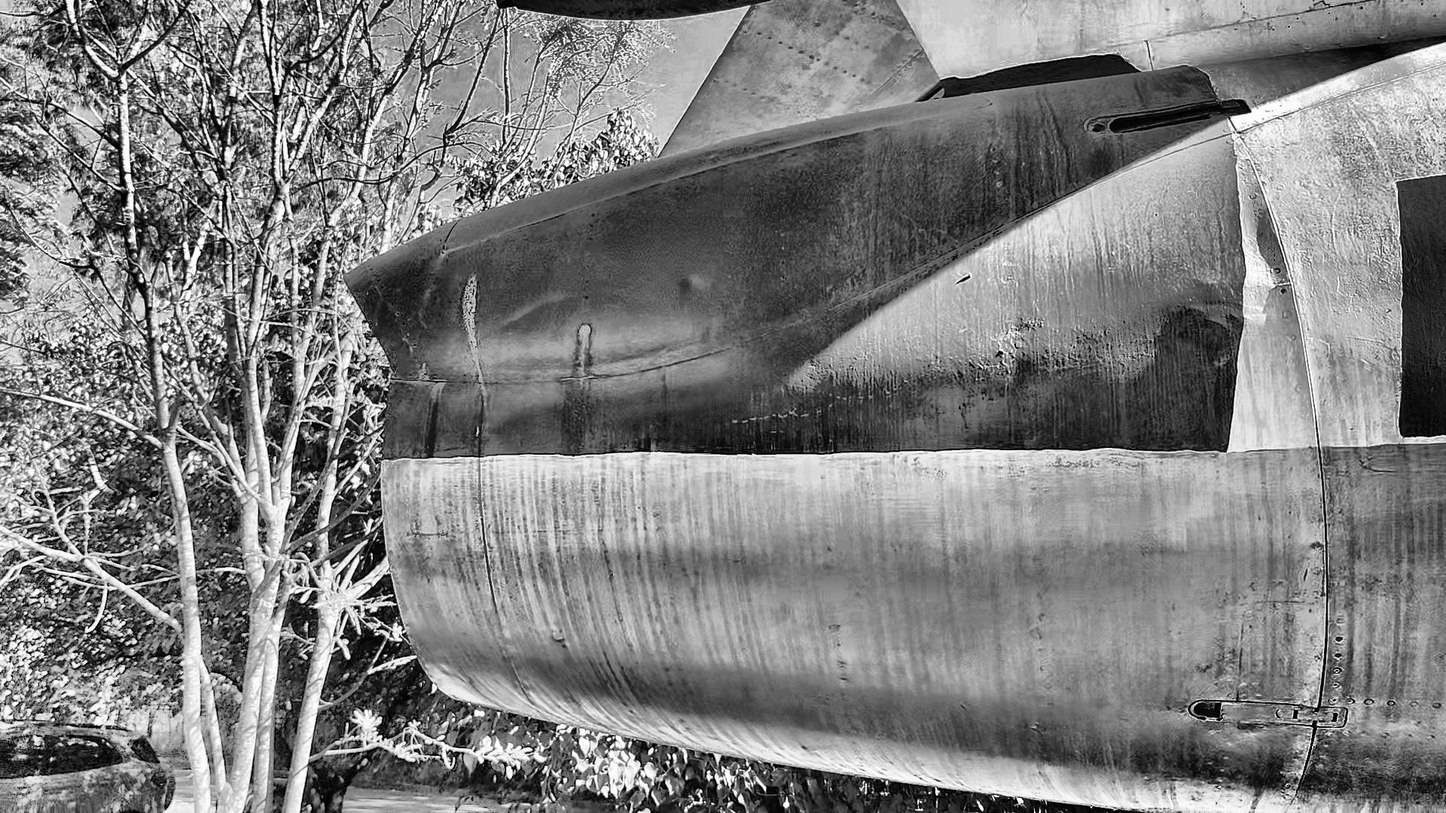dent: (1175, 299, 1246, 376), (1256, 203, 1288, 279), (678, 273, 702, 297), (645, 438, 655, 454)
paint-peel-off: (552, 630, 565, 642)
